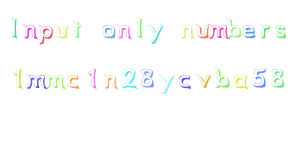1: (85, 63, 100, 92), (10, 65, 26, 91)
2: (120, 63, 138, 91)
5: (249, 64, 268, 92)
8: (270, 66, 288, 90), (140, 64, 156, 89)
I: (3, 13, 22, 42)
a: (231, 72, 251, 90)
b: (227, 13, 242, 44), (213, 63, 230, 89)
c: (175, 69, 193, 93), (64, 68, 82, 91)
e: (241, 19, 258, 42)
l: (133, 13, 145, 43)
m: (208, 18, 228, 44), (25, 71, 47, 92), (45, 71, 66, 91)
n: (176, 19, 196, 44), (101, 69, 119, 95), (20, 22, 38, 43), (116, 20, 133, 42)
o: (99, 24, 117, 42)
p: (38, 25, 53, 48)
r: (258, 21, 271, 42)
s: (273, 20, 289, 42)
t: (71, 15, 84, 40)
u: (194, 20, 210, 42), (55, 24, 69, 39)
v: (194, 69, 215, 93)
y: (157, 73, 179, 97), (147, 21, 165, 46)
